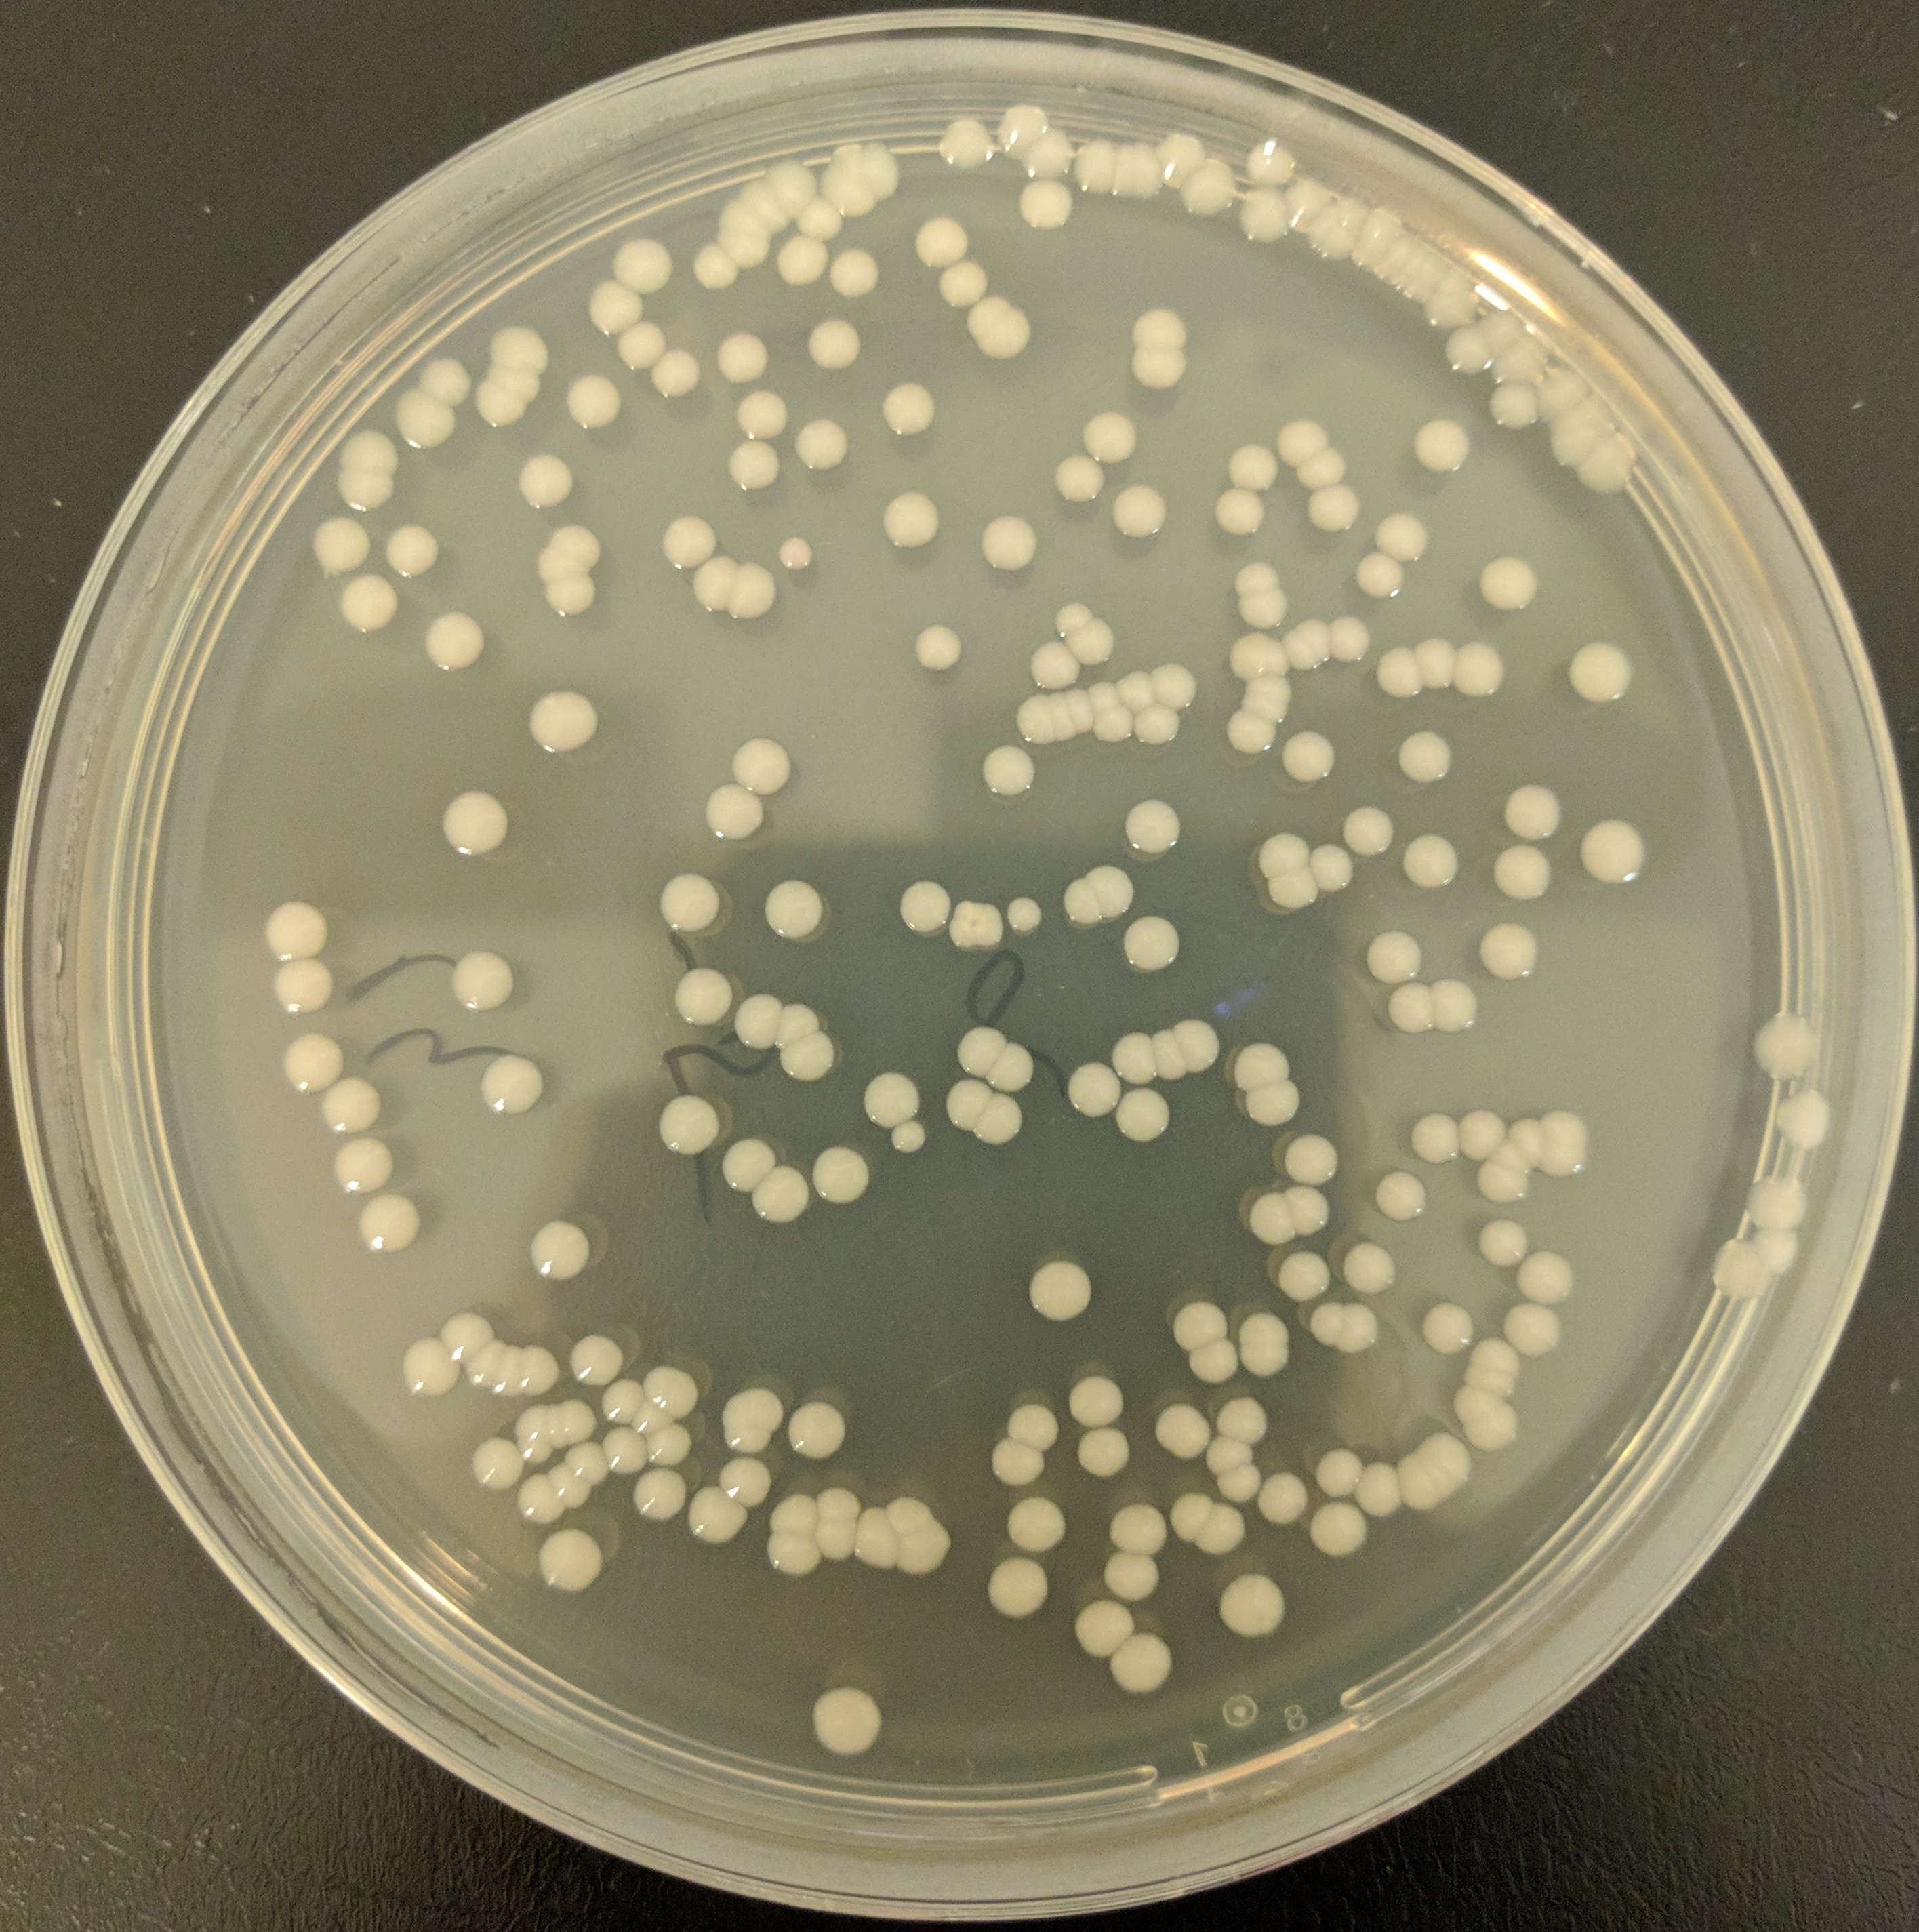sp20: (429, 784, 517, 868), (1394, 1427, 1476, 1517), (794, 1686, 887, 1763), (469, 1046, 557, 1125), (1209, 1563, 1293, 1644), (1580, 807, 1655, 891), (346, 1187, 432, 1260), (1104, 1626, 1181, 1703), (873, 485, 949, 563), (525, 1213, 599, 1292), (975, 1552, 1056, 1624), (508, 441, 583, 517), (708, 1380, 786, 1454), (794, 1136, 873, 1208), (1019, 1255, 1098, 1327), (1742, 1009, 1821, 1081), (750, 872, 831, 942), (724, 730, 805, 800), (647, 1090, 728, 1160), (1488, 1292, 1569, 1362), (650, 868, 726, 942), (1562, 635, 1636, 708), (529, 1526, 608, 1594), (1536, 404, 1611, 475), (1740, 1160, 1810, 1236), (272, 1032, 350, 1100), (265, 953, 344, 1020), (322, 1129, 402, 1194), (696, 779, 768, 851), (1065, 1594, 1141, 1663), (1492, 774, 1562, 846), (1476, 916, 1545, 990), (810, 158, 884, 225), (1503, 1248, 1587, 1306), (332, 568, 402, 636), (527, 684, 599, 751), (415, 608, 489, 673), (258, 898, 332, 963), (603, 234, 680, 295), (573, 276, 650, 338), (938, 891, 1009, 958), (680, 1480, 754, 1543), (304, 515, 378, 578), (664, 965, 740, 1027), (1582, 427, 1640, 506), (1388, 724, 1457, 791), (1483, 840, 1553, 905), (1003, 1489, 1068, 1559), (1764, 1079, 1831, 1146), (1306, 1494, 1372, 1561), (1149, 1396, 1216, 1463), (1060, 1368, 1126, 1434), (975, 510, 1044, 575), (1471, 1143, 1539, 1208), (394, 387, 464, 450), (1060, 1057, 1126, 1122), (719, 1130, 784, 1197), (784, 1401, 851, 1466), (854, 1065, 923, 1129), (392, 1334, 460, 1398), (376, 520, 446, 582), (1116, 798, 1186, 860), (1399, 826, 1459, 898), (721, 561, 787, 624), (1121, 907, 1184, 974), (450, 946, 518, 1007), (851, 1503, 907, 1577), (995, 91, 1058, 156), (731, 176, 794, 241), (320, 1071, 383, 1136), (875, 376, 937, 443), (1077, 406, 1146, 466), (1411, 1297, 1480, 1357), (1104, 1500, 1172, 1559), (1104, 1088, 1177, 1143), (1474, 552, 1538, 615), (1362, 923, 1429, 983), (1406, 417, 1476, 473), (650, 515, 721, 571), (967, 1090, 1030, 1151), (750, 1160, 812, 1224), (1299, 199, 1364, 258), (728, 381, 793, 441), (1274, 723, 1339, 782), (1346, 548, 1413, 606), (1445, 643, 1513, 700), (974, 742, 1042, 798), (1084, 851, 1141, 919), (1706, 1227, 1763, 1296), (905, 614, 967, 675), (466, 1434, 527, 1496), (761, 163, 824, 223), (937, 1074, 1000, 1134), (1307, 1443, 1372, 1501), (796, 322, 870, 373), (1297, 483, 1364, 540), (1098, 1543, 1165, 1600), (1279, 1130, 1348, 1185), (485, 323, 555, 376), (541, 517, 612, 570), (1380, 979, 1439, 1041), (729, 990, 789, 1051), (1471, 1211, 1531, 1273), (1170, 167, 1242, 218), (1123, 308, 1195, 359), (1200, 487, 1272, 538), (1406, 1111, 1464, 1174), (984, 1431, 1047, 1489), (935, 109, 991, 174), (538, 561, 603, 617), (1336, 800, 1401, 856), (1070, 1427, 1135, 1484), (893, 879, 952, 939), (1167, 1292, 1227, 1352), (559, 374, 620, 432), (1297, 839, 1358, 897), (1344, 1236, 1402, 1297), (713, 325, 770, 389), (719, 436, 782, 492), (1430, 977, 1487, 1041), (1232, 130, 1297, 185), (1046, 454, 1112, 506), (712, 1456, 778, 1508), (508, 1401, 559, 1470), (1112, 483, 1170, 543), (1054, 874, 1112, 933), (1371, 1167, 1430, 1225), (1455, 1104, 1515, 1162), (1211, 1389, 1269, 1449), (629, 1466, 689, 1524), (687, 556, 749, 612), (1543, 1111, 1592, 1181), (1228, 1035, 1293, 1088), (643, 1364, 703, 1420), (852, 139, 905, 202), (1225, 190, 1290, 241), (1432, 264, 1483, 329), (1466, 1405, 1532, 1454), (1107, 148, 1163, 206), (1158, 125, 1216, 181), (1351, 1463, 1408, 1521), (1193, 1503, 1251, 1559), (794, 415, 849, 475), (1218, 703, 1278, 758), (896, 1522, 956, 1577), (1374, 642, 1425, 705), (1251, 826, 1314, 877), (511, 1468, 562, 1531), (706, 204, 777, 250), (1752, 1215, 1798, 1285), (759, 1491, 829, 1536), (1480, 383, 1546, 431), (569, 1331, 626, 1387), (1019, 130, 1077, 185), (826, 244, 884, 299), (763, 1529, 821, 1584), (438, 1310, 496, 1364), (1439, 323, 1499, 376), (1220, 628, 1281, 679), (970, 315, 1035, 362), (336, 466, 401, 513), (1272, 1252, 1337, 1299), (1536, 362, 1590, 418), (1149, 656, 1206, 710), (1380, 508, 1434, 564), (1002, 1398, 1058, 1452), (1074, 134, 1125, 193), (643, 350, 703, 401), (474, 381, 534, 432), (926, 262, 988, 311), (1144, 1025, 1188, 1093), (1255, 1470, 1311, 1522), (1163, 1487, 1220, 1540), (557, 1392, 610, 1449), (910, 218, 970, 267), (1009, 181, 1075, 225), (766, 1002, 828, 1050), (689, 241, 743, 294), (1278, 1181, 1329, 1238), (981, 1041, 1037, 1092), (1332, 1301, 1383, 1357), (1186, 1336, 1242, 1387), (1495, 332, 1553, 381), (1174, 1013, 1223, 1071), (1256, 868, 1323, 911), (1230, 439, 1283, 492), (620, 316, 673, 369), (1283, 172, 1337, 223), (1109, 1028, 1160, 1083), (1351, 211, 1401, 267), (1272, 418, 1329, 468), (951, 1023, 1007, 1072), (784, 1035, 840, 1085), (1295, 445, 1353, 492), (416, 357, 474, 404), (1411, 635, 1457, 694), (1329, 612, 1374, 672), (1128, 348, 1190, 392), (547, 1454, 590, 1515), (967, 283, 1017, 336), (1299, 1296, 1346, 1352), (770, 237, 828, 283), (1457, 1352, 1522, 1392), (1244, 1194, 1293, 1246), (1241, 1336, 1295, 1384), (1023, 640, 1079, 686), (1007, 691, 1053, 747), (643, 1426, 699, 1471), (1295, 614, 1344, 665), (603, 1426, 650, 1478), (1204, 1434, 1260, 1478), (712, 234, 775, 272), (1067, 619, 1118, 666), (599, 1378, 650, 1426), (485, 360, 545, 401), (1227, 557, 1286, 598), (520, 1343, 561, 1403), (525, 548, 594, 584), (1241, 1090, 1306, 1127), (996, 895, 1049, 939), (1111, 666, 1156, 715), (814, 1514, 859, 1563), (626, 1398, 677, 1442), (457, 1336, 501, 1387), (810, 1482, 863, 1524), (341, 431, 401, 468), (1232, 591, 1293, 626), (1228, 1310, 1290, 1345), (1467, 1329, 1522, 1368), (538, 1401, 576, 1456), (1214, 1461, 1264, 1503), (1448, 1384, 1506, 1419), (1234, 689, 1290, 724), (1133, 707, 1186, 744), (1520, 1113, 1552, 1174), (801, 199, 845, 243), (886, 1494, 937, 1531), (1051, 596, 1093, 640), (1281, 626, 1316, 679), (886, 1116, 930, 1158), (1086, 705, 1135, 742), (496, 1343, 527, 1399), (1488, 306, 1527, 350), (1260, 629, 1293, 677), (569, 1445, 615, 1478), (778, 533, 814, 575), (1246, 673, 1295, 700), (1063, 686, 1086, 740), (1044, 696, 1070, 742), (1086, 682, 1121, 708), (824, 144, 851, 167)
